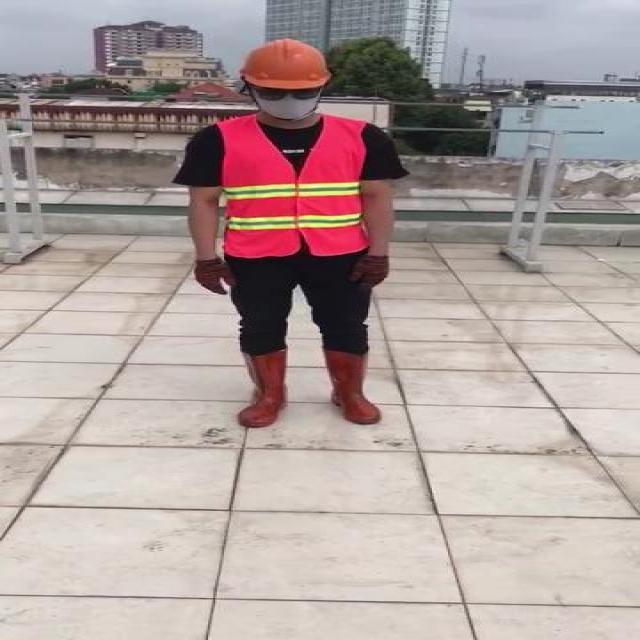boots: (233, 348, 291, 429), (322, 349, 382, 425)
face_mask: (252, 80, 322, 121)
glasses: (247, 79, 327, 107)
hand_glove: (345, 254, 393, 293), (196, 261, 237, 297)
head_helmet: (236, 37, 334, 87)
person: (177, 34, 413, 433)
vest: (220, 115, 370, 258)
